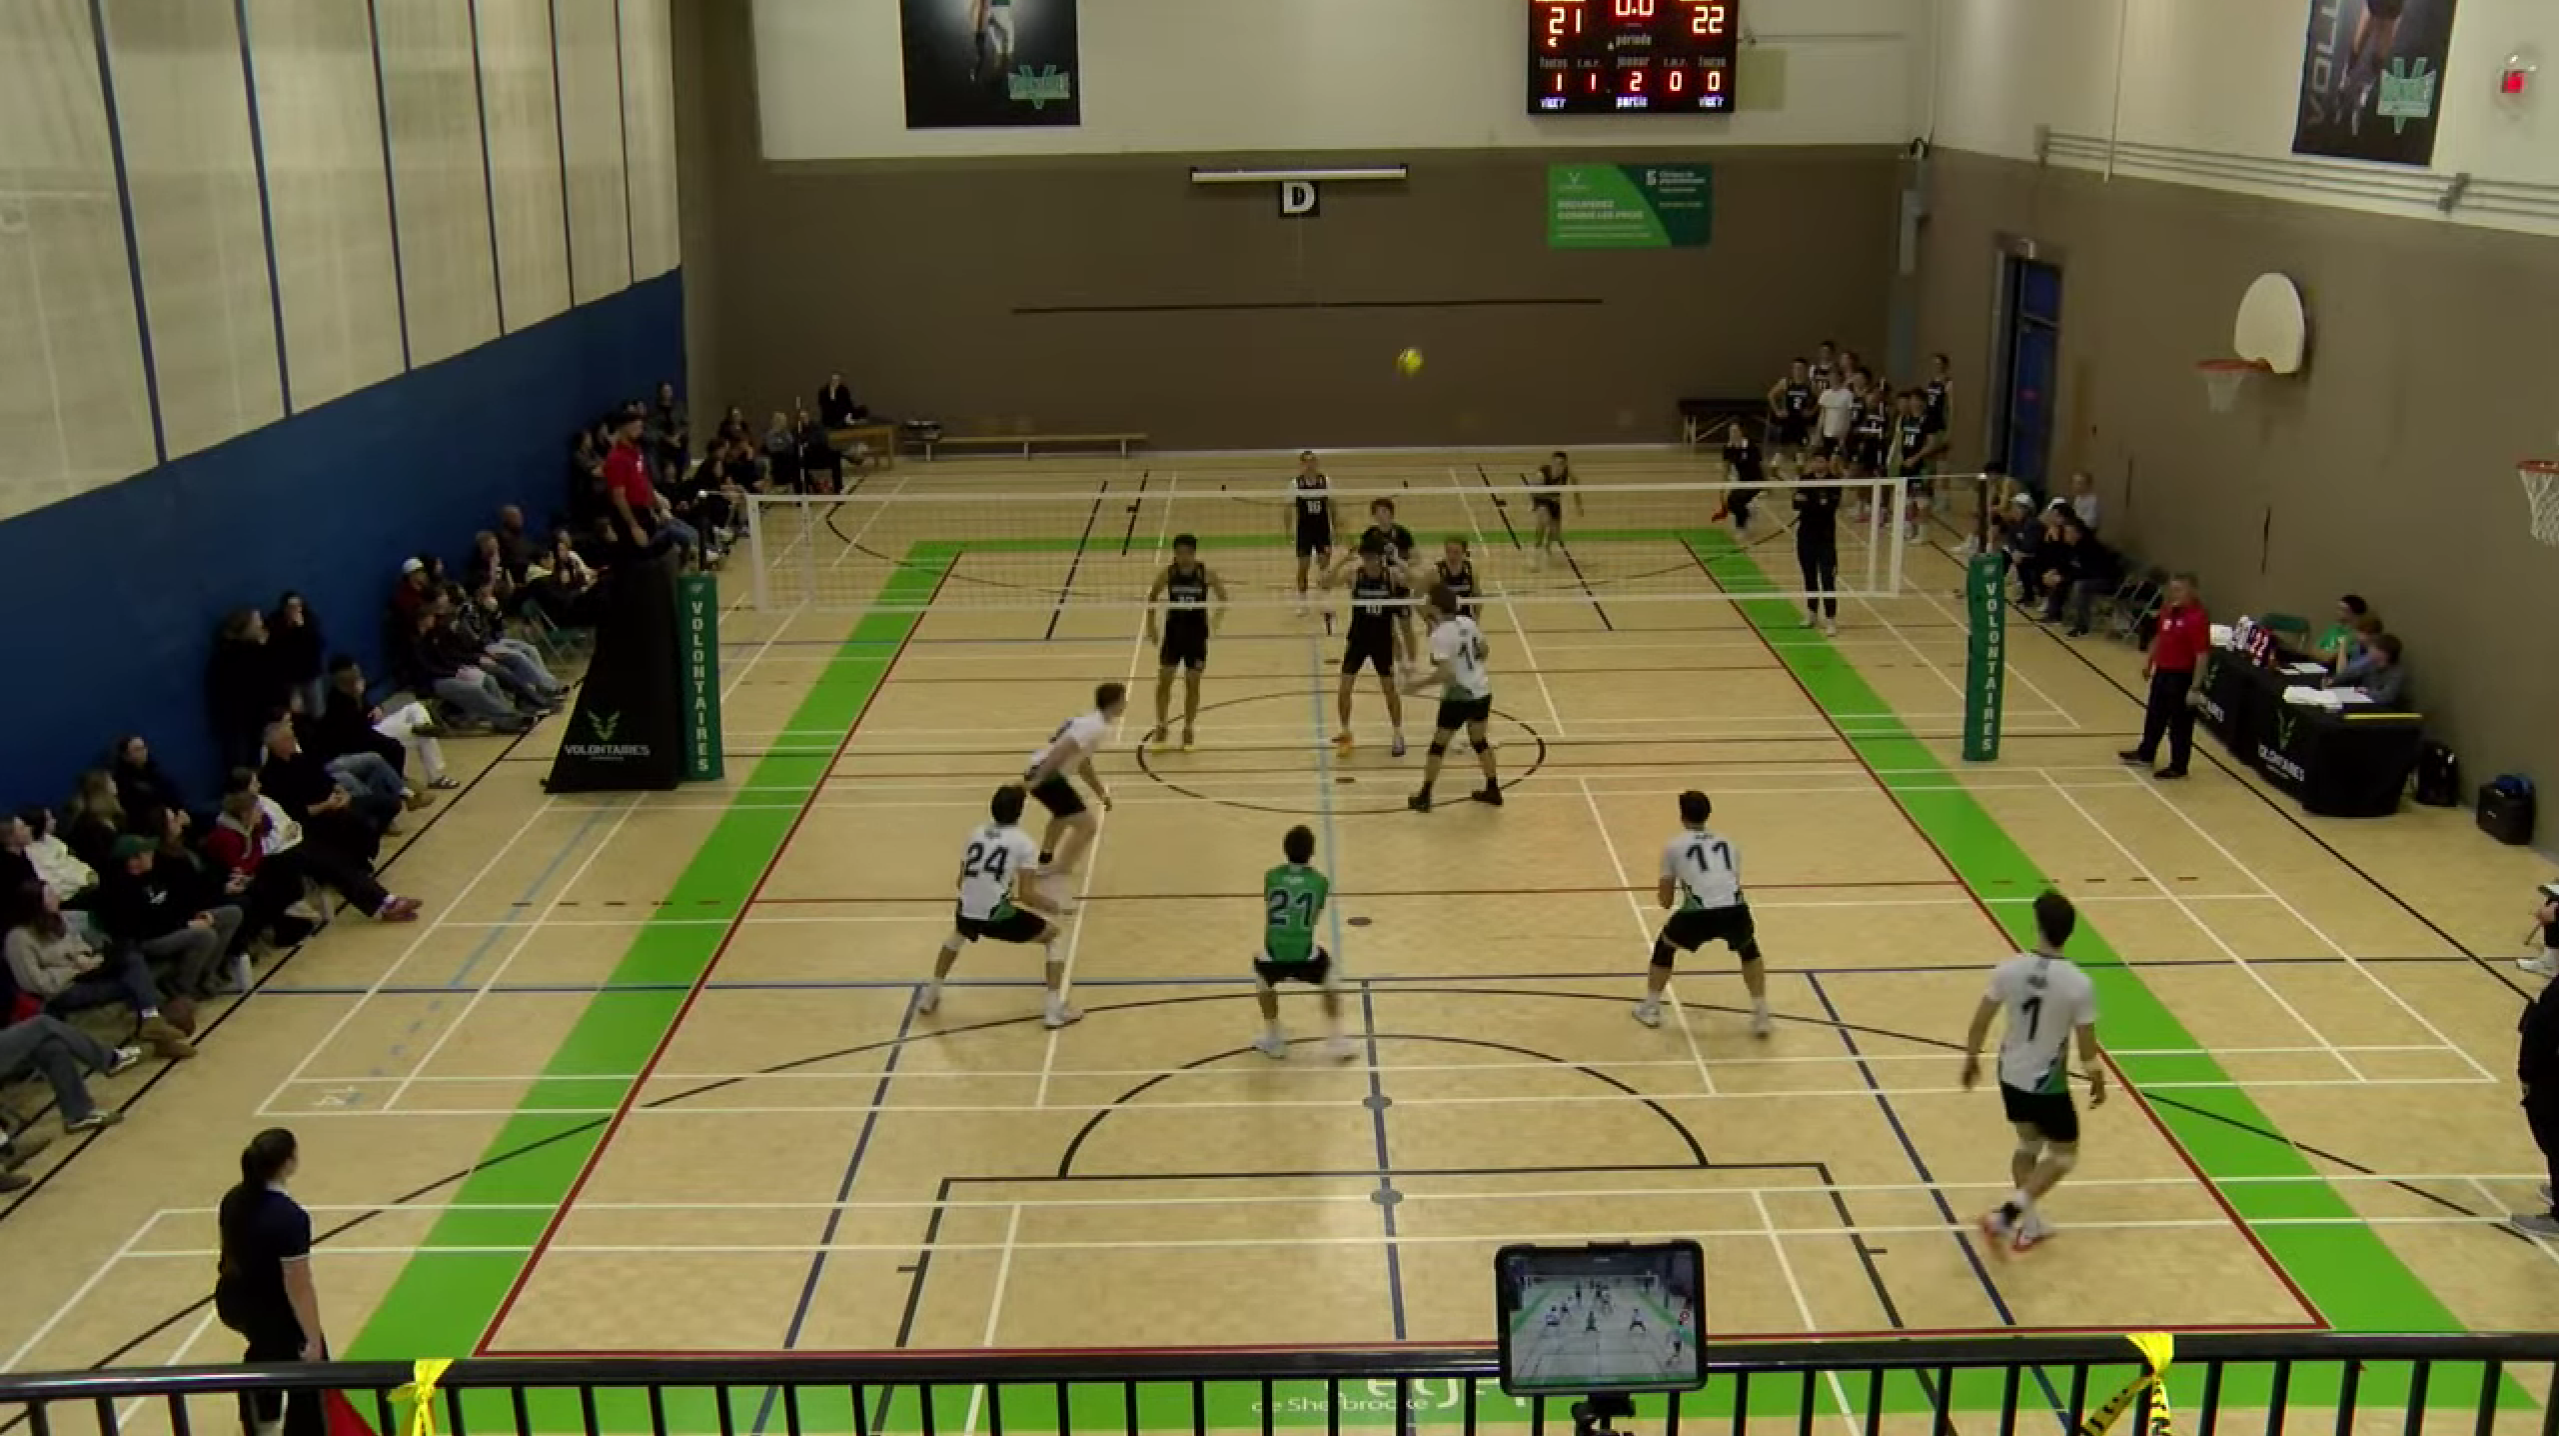Ball: (1392, 344, 1425, 380)
